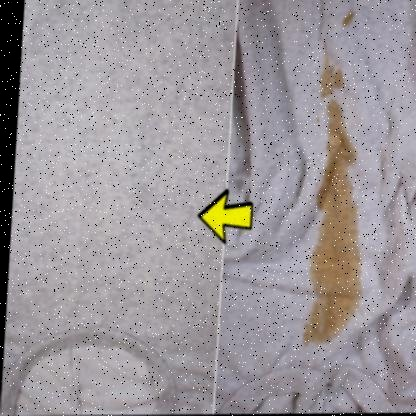coffee: (312, 181, 359, 333), (329, 114, 342, 173)
